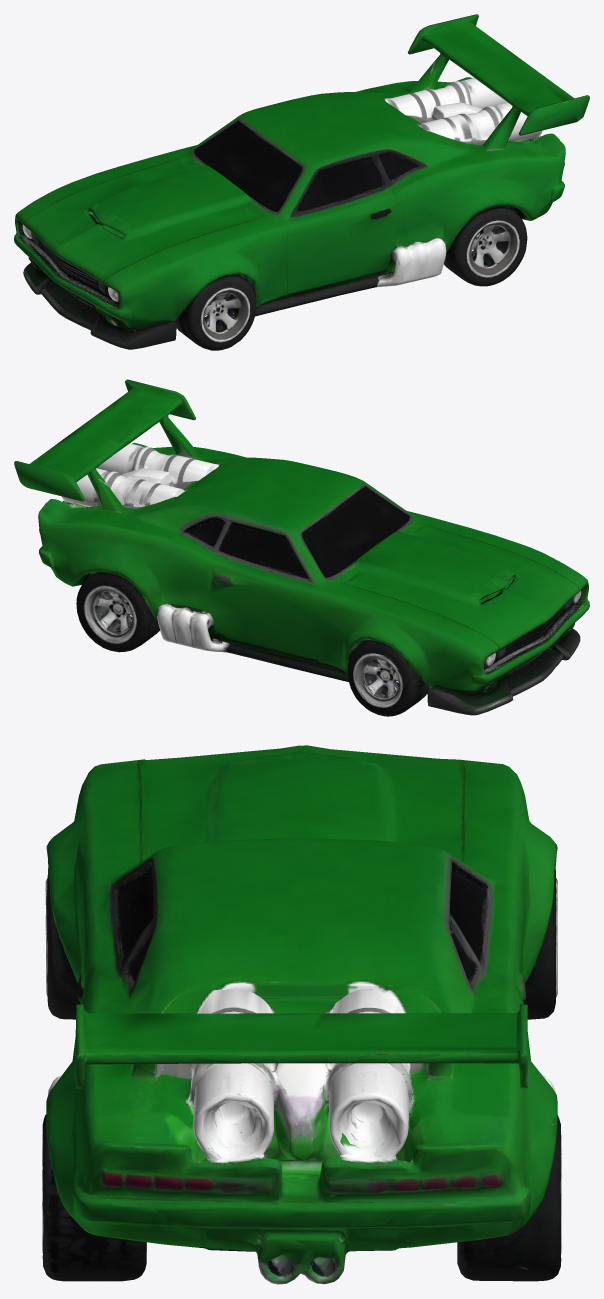
File: esmeralda.glb
The picture shows the model from 3 angles, top to bottom: view 1: azimuth 30°, elevation 25°; view 2: azimuth 150°, elevation 25°; view 3: azimuth 270°, elevation 25°; orthographic projection. The views are drawn at different scales.
Visible parts, largest first — view 1: Mesh_0; view 2: Mesh_0; view 3: Mesh_0.
Part boxes in pixels (x1=…): Mesh_0: x1=14, y1=14, x2=589, y2=350; Mesh_0: x1=14, y1=379, x2=589, y2=716; Mesh_0: x1=42, y1=745, x2=561, y2=1284.
Size of the model in its own units: 1.9 by 0.6077 by 0.8905.
Materials: 1 (1 with a texture image).
